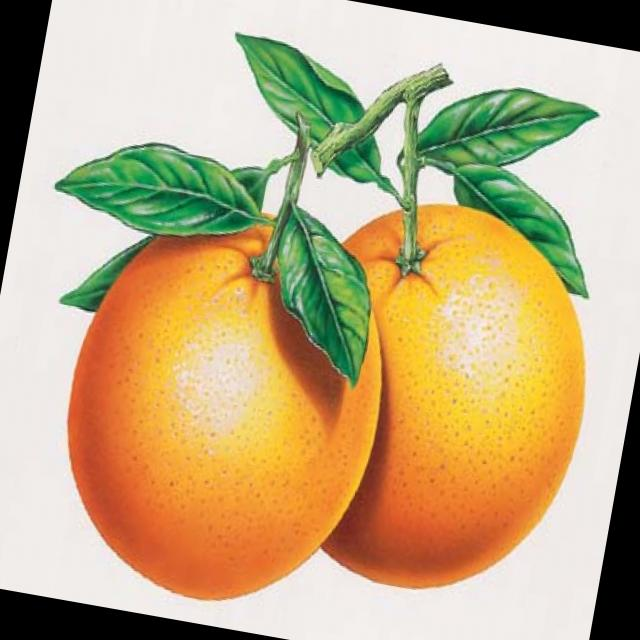orange: (32, 170, 421, 628), (261, 181, 619, 639)
